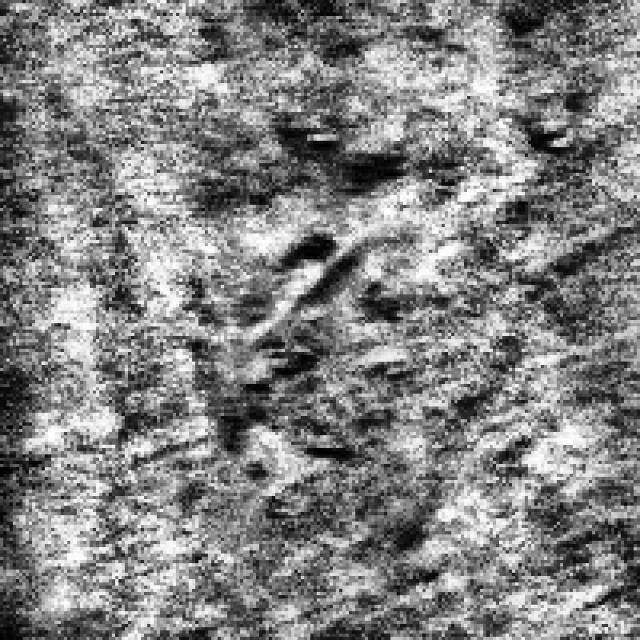Crazing: (211, 195, 410, 502), (250, 99, 412, 227)
